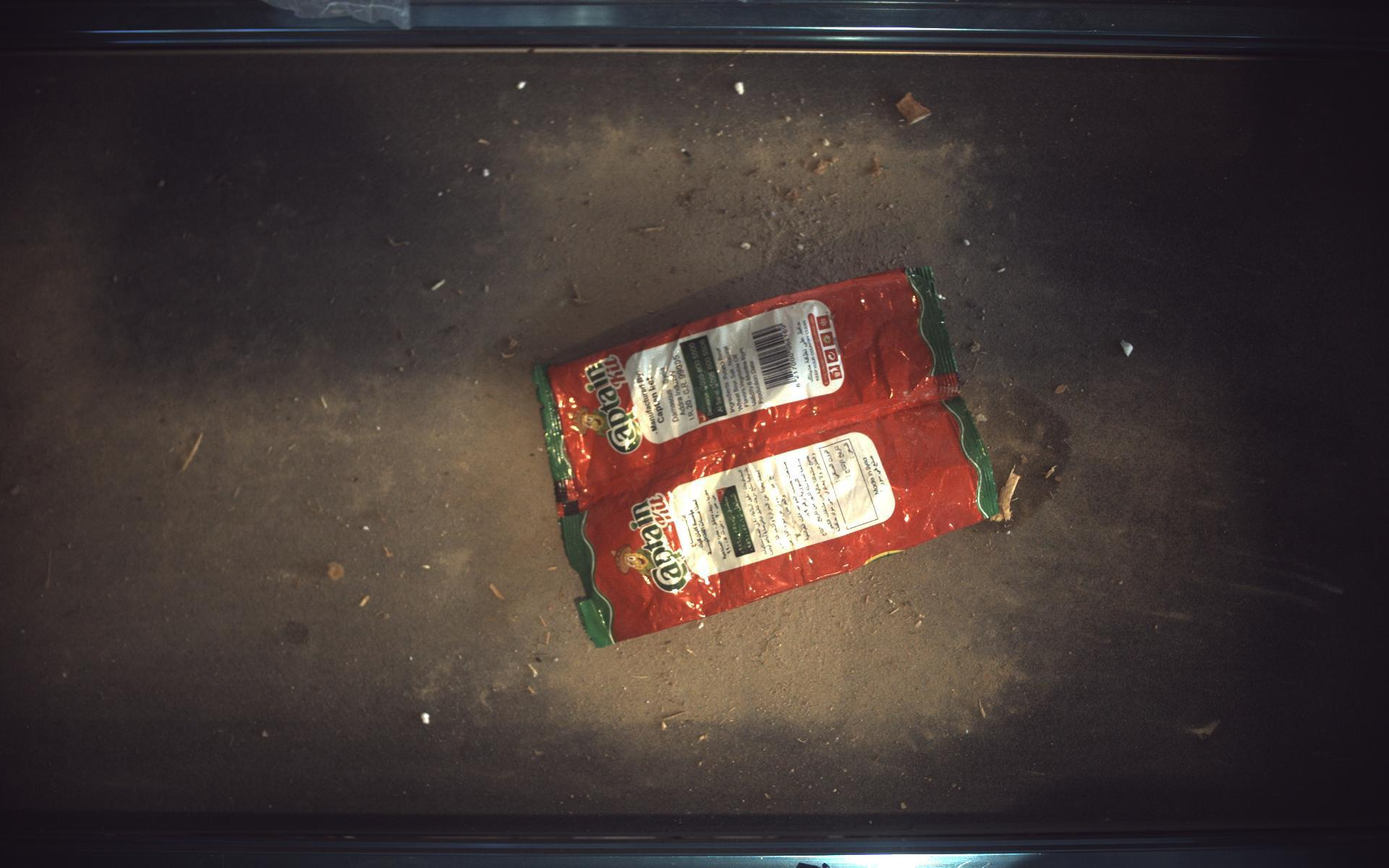general_w: (535, 268, 1001, 647)
